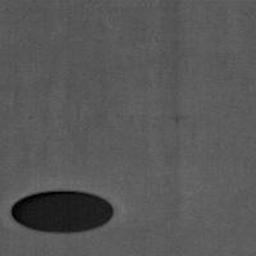Punching: (12, 191, 114, 234)
